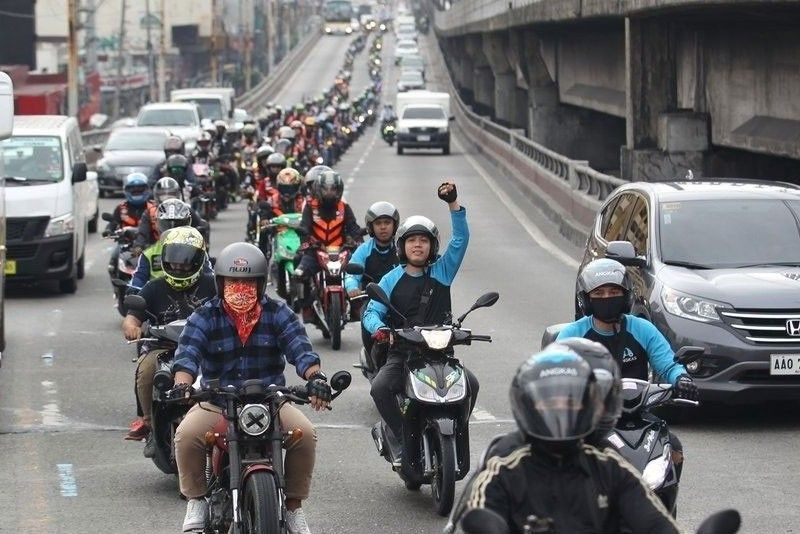helmet: (213, 245, 273, 311), (573, 261, 635, 321), (391, 212, 448, 269), (159, 227, 211, 289), (364, 201, 404, 245), (119, 174, 157, 211), (275, 167, 306, 201), (317, 171, 344, 209)
